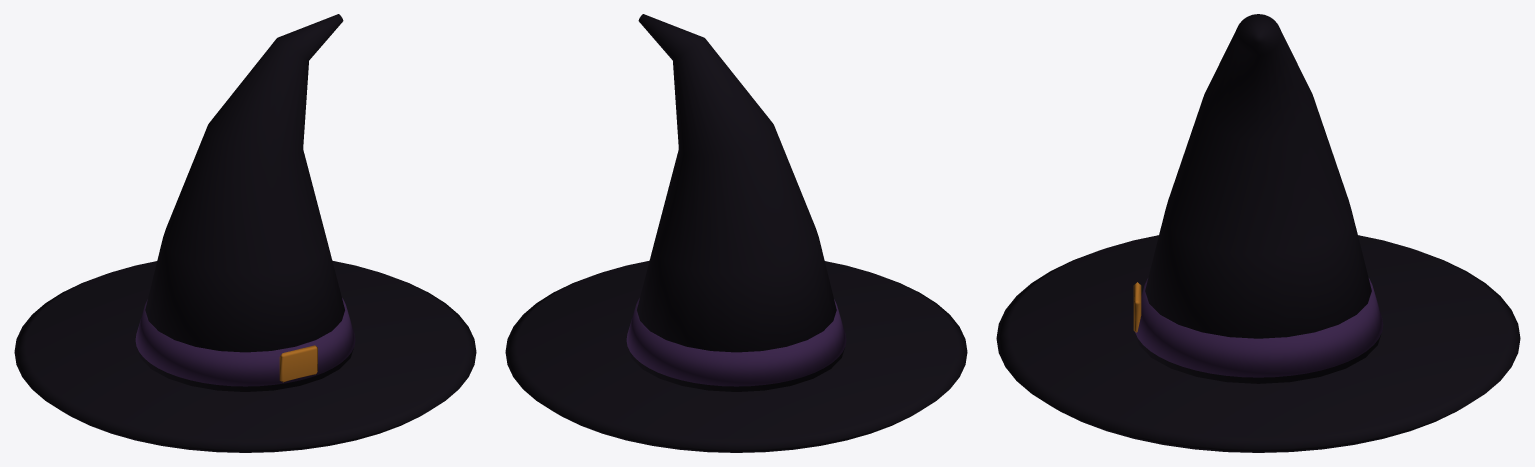
The model's file is witch_hat.obj.
3 views of the same model, side by side, from view 1: azimuth 30°, elevation 25°; view 2: azimuth 150°, elevation 25°; view 3: azimuth 270°, elevation 25° (orthographic). The views are drawn at different scales.
Visible parts, largest first — view 1: LH_witch_hat; view 2: LH_witch_hat; view 3: LH_witch_hat.
Part boxes in pixels (x1,y1,x2,y2): LH_witch_hat: [14, 14, 476, 452]; LH_witch_hat: [505, 14, 967, 452]; LH_witch_hat: [996, 14, 1520, 452].
Size of the model in its own units: 0.42 by 0.3237 by 0.42.
